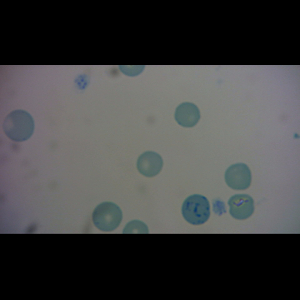aggregate reticulocyte: (181, 193, 212, 226)
erythrocyte: (223, 161, 254, 192), (226, 191, 256, 221), (135, 150, 165, 178)
punctate reticulocyte: (2, 109, 36, 143), (91, 200, 124, 233), (174, 101, 202, 129)
